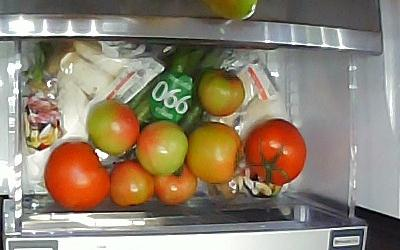tomato: (244, 118, 309, 188), (45, 141, 110, 210), (185, 123, 242, 186), (86, 100, 139, 156), (135, 121, 188, 176), (198, 69, 245, 116), (108, 160, 154, 208), (155, 163, 198, 205)
